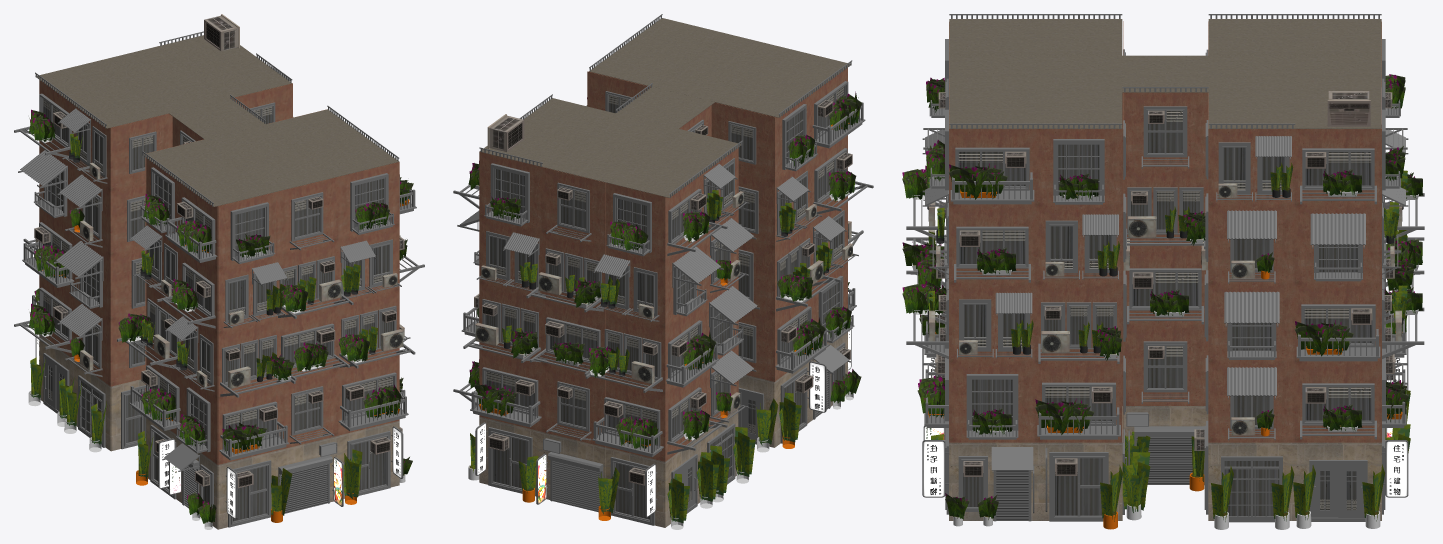
Rendered from building_brick_a.glb.
The picture shows the model from 3 angles, left to right: view 1: azimuth 30°, elevation 25°; view 2: azimuth 150°, elevation 25°; view 3: azimuth 270°, elevation 25°; orthographic projection. The views are drawn at different scales.
Parts seen in each view (by area): view 1: BrickBuilding_0; view 2: BrickBuilding_0; view 3: BrickBuilding_0.
Boxes of the visible parts, x1=… form: BrickBuilding_0: x1=14, y1=14, x2=424, y2=529; BrickBuilding_0: x1=453, y1=14, x2=873, y2=529; BrickBuilding_0: x1=902, y1=14, x2=1424, y2=529.
Size of the model in its own units: 8.05 by 10.66 by 12.18.
7 materials, 7 textured.
